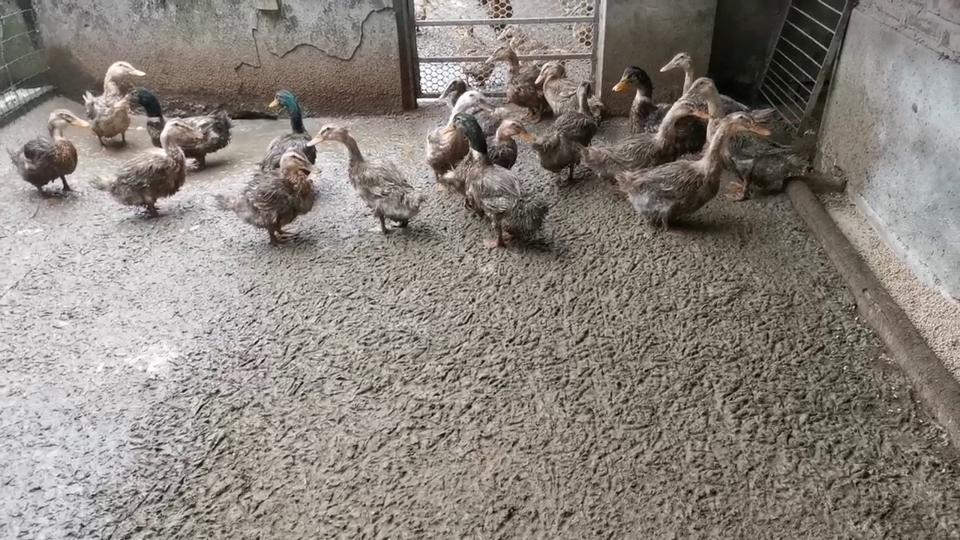duck: (630, 114, 772, 241), (691, 78, 828, 201), (448, 115, 556, 252), (311, 121, 429, 246), (113, 119, 209, 225), (595, 99, 707, 187), (126, 87, 239, 172), (616, 60, 715, 157), (238, 153, 329, 249), (14, 102, 93, 204), (429, 87, 489, 181), (544, 82, 603, 177), (85, 58, 142, 155), (485, 44, 559, 115), (539, 55, 609, 120), (266, 88, 316, 176), (487, 112, 537, 170), (659, 48, 719, 95), (537, 62, 592, 112), (456, 19, 495, 82), (499, 23, 559, 55), (568, 3, 596, 48), (427, 77, 477, 102), (414, 2, 441, 22), (487, 1, 516, 19)
